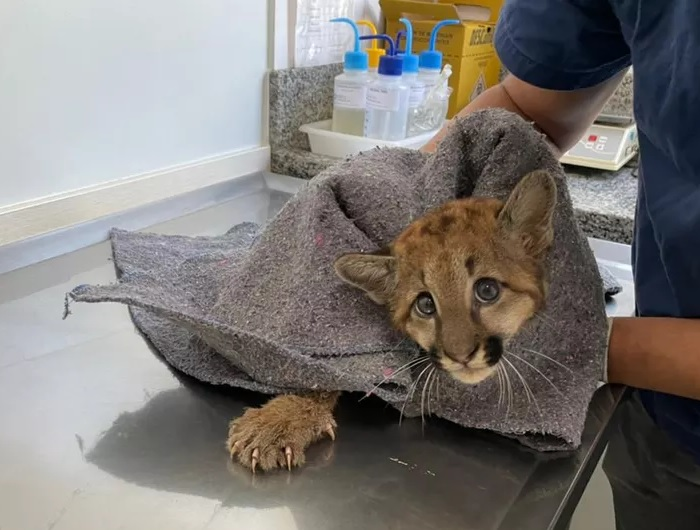OncaParda: (214, 169, 562, 476)
